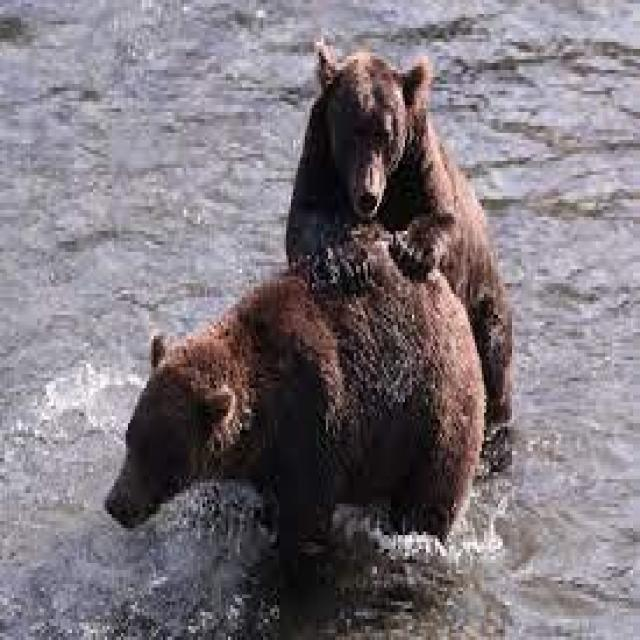Bear: (102, 238, 482, 581), (286, 38, 510, 465)
